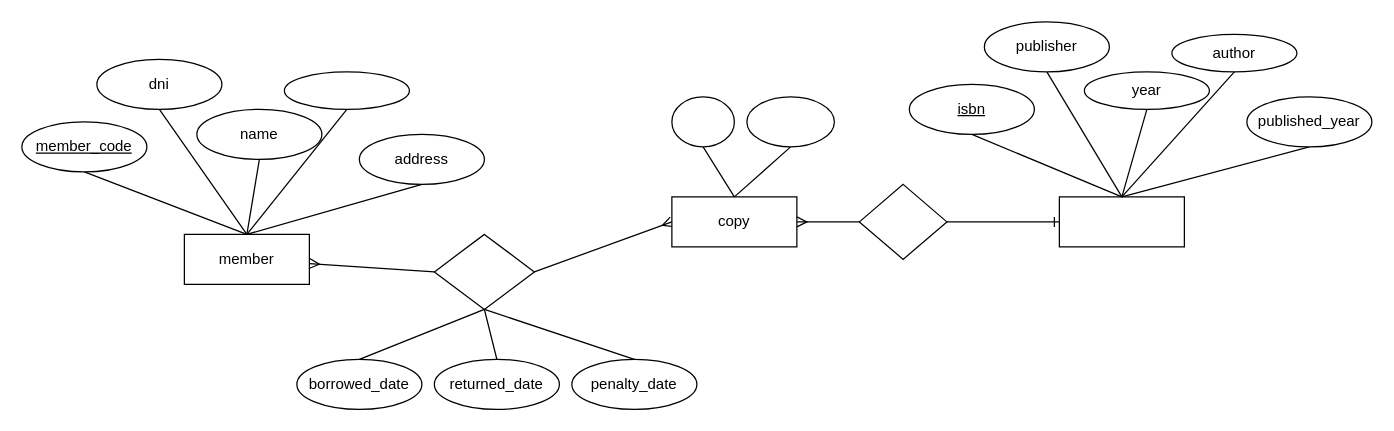
Some shapes in this 1394 by 431 pixel diagram are drawn without their labels. Each missing label, with the box of its shape:
book: (1058, 196, 1184, 247)
borrows: (433, 233, 534, 309)
has: (858, 183, 947, 259)
id: (671, 96, 734, 147)
last_name: (283, 71, 409, 109)
status: (746, 96, 834, 147)
